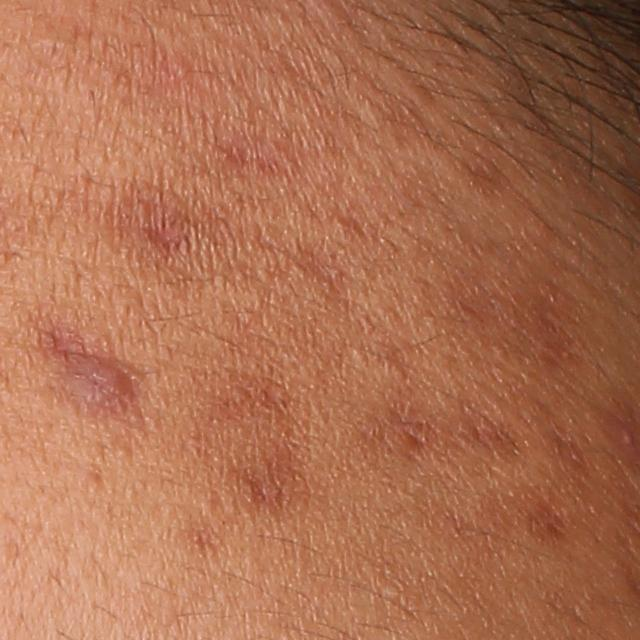papule: (66, 357, 136, 409)
